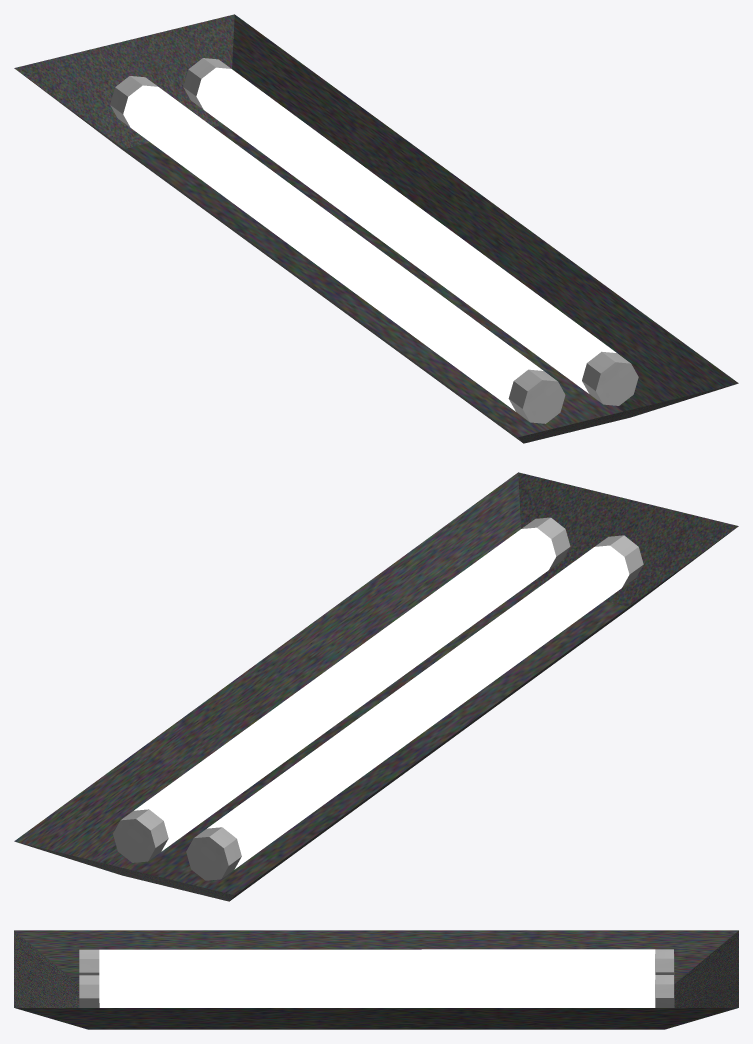
Rendered from halogen.glb.
3 views of the same model, one above another, from view 1: azimuth 30°, elevation 25°; view 2: azimuth 150°, elevation 25°; view 3: azimuth 270°, elevation 25° (orthographic). The views are drawn at different scales.
Parts seen in each view (by area): view 1: Plane; view 2: Plane; view 3: Plane.
Boxes of the visible parts, x1,y1,x2,y2 form: Plane: (14, 14, 738, 443); Plane: (14, 472, 738, 901); Plane: (14, 930, 738, 1029).
Size of the model in its own units: 0.3083 by 0.088 by 1.22.
Materials: 3 (2 with a texture image).
